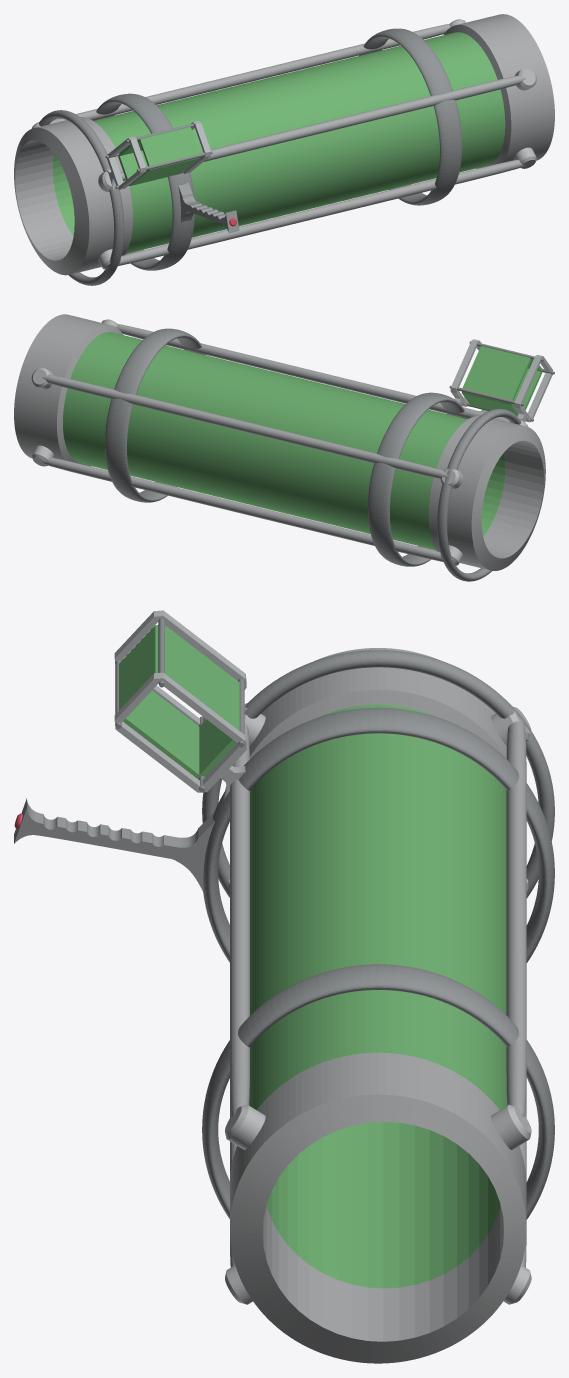
File: Bull Buster-M12.glb
3 views of the same model, one above another, from view 1: azimuth 30°, elevation 25°; view 2: azimuth 150°, elevation 25°; view 3: azimuth 270°, elevation 25° (orthographic). The views are drawn at different scales.
Parts seen in each view (by area): view 1: Mesh_Mesh_head_geo.001_lambert2SG.001; view 2: Mesh_Mesh_head_geo.001_lambert2SG.001; view 3: Mesh_Mesh_head_geo.001_lambert2SG.001.
Part boxes in pixels (x1,y1,x2,y2): Mesh_Mesh_head_geo.001_lambert2SG.001: [14, 14, 554, 285]; Mesh_Mesh_head_geo.001_lambert2SG.001: [14, 314, 554, 581]; Mesh_Mesh_head_geo.001_lambert2SG.001: [14, 610, 554, 1363].
Size of the model in its own units: 80.58 by 29.28 by 40.1.
